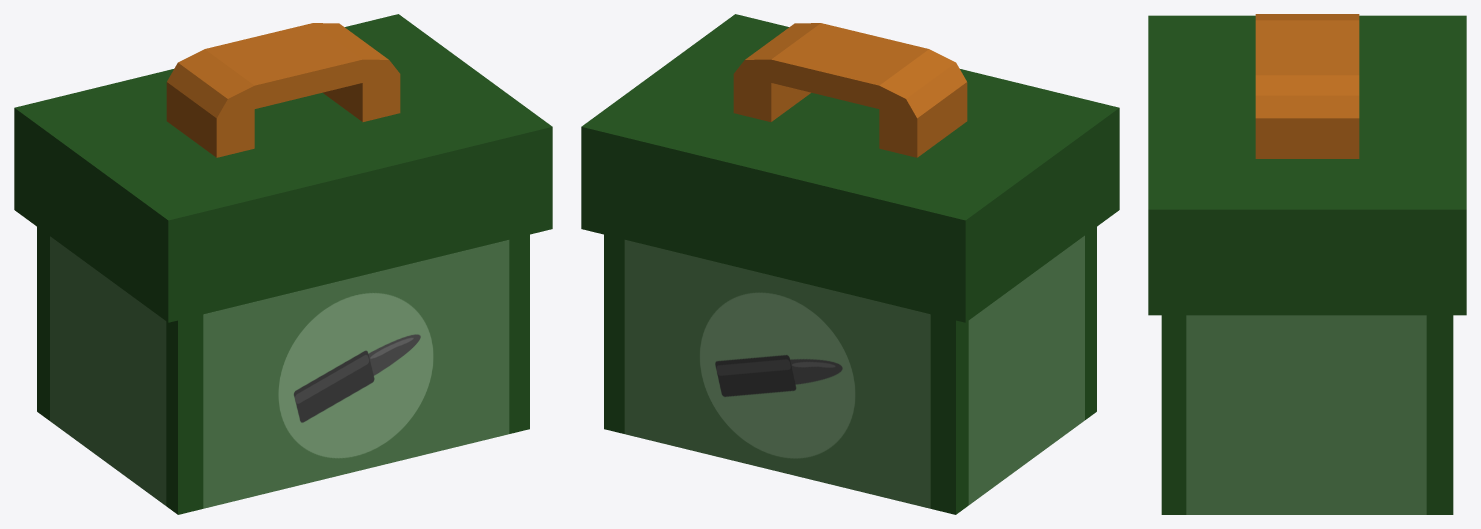
The model's file is AmmoBox.fbx.
3 views of the same model, side by side, from view 1: azimuth 30°, elevation 25°; view 2: azimuth 150°, elevation 25°; view 3: azimuth 270°, elevation 25° (orthographic). The views are drawn at different scales.
Visible parts, largest first — view 1: Cube; view 2: Cube; view 3: Cube.
Boxes of the visible parts, x1,y1,x2,y2 form: Cube: (14, 14, 552, 514); Cube: (581, 14, 1119, 514); Cube: (1148, 14, 1466, 514).
Size of the model in its own units: 69.36 by 63.17 by 48.17.
